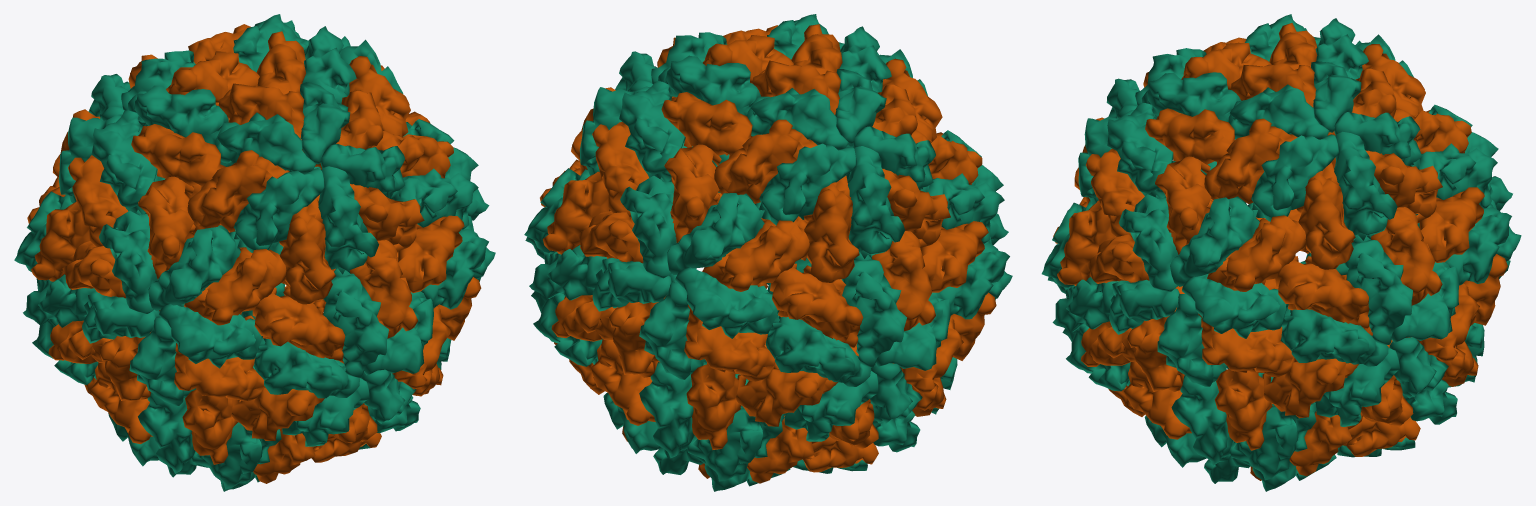
3 renders of one model, left to right at view 1: azimuth 30°, elevation 25°; view 2: azimuth 150°, elevation 25°; view 3: azimuth 270°, elevation 25°, orthographic. The views are drawn at different scales.
Size of the model in its own units: 422 by 422 by 450.
